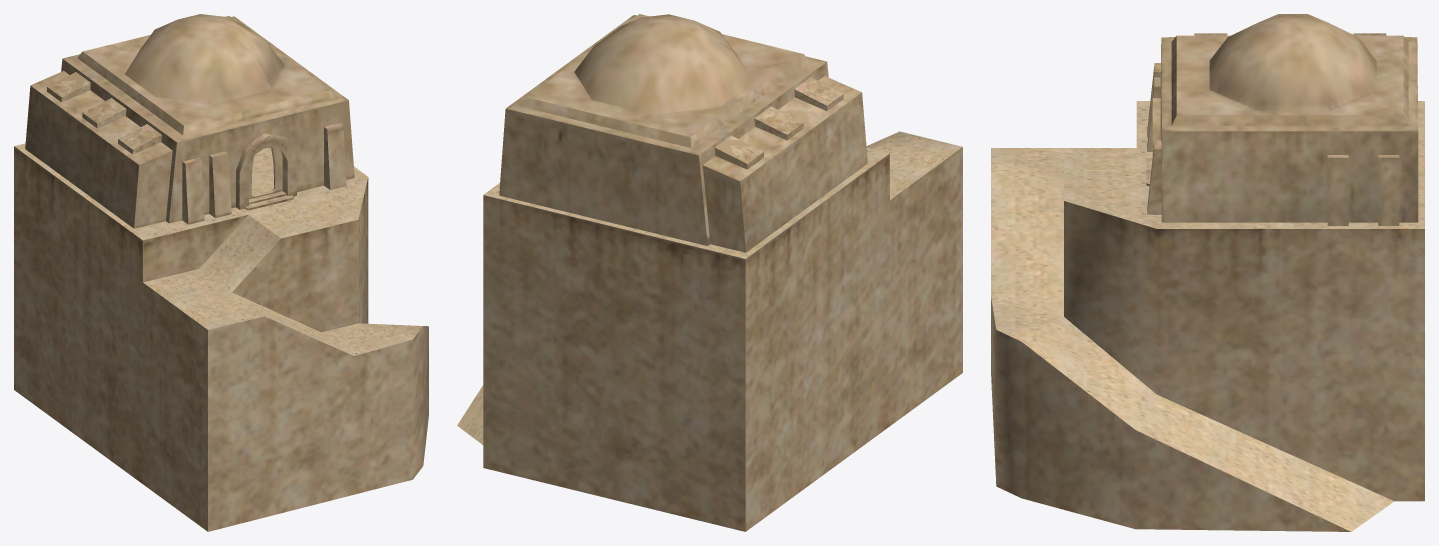
The model's file is ply_tato_house_sm_s02_fp1_r0_mesh_l2.fbx.
The picture shows the model from 3 angles, left to right: view 1: azimuth 30°, elevation 25°; view 2: azimuth 150°, elevation 25°; view 3: azimuth 270°, elevation 25°; orthographic projection. The views are drawn at different scales.
Parts seen in each view (by area): view 1: mesh_node; view 2: mesh_node; view 3: mesh_node.
Part boxes in pixels (box(x1,y1,x2,y2)): mesh_node: box(14, 14, 428, 531); mesh_node: box(457, 14, 962, 531); mesh_node: box(991, 14, 1424, 531).
Bounding box in the file's own units: 20.58 × 25.64 × 23.82.
